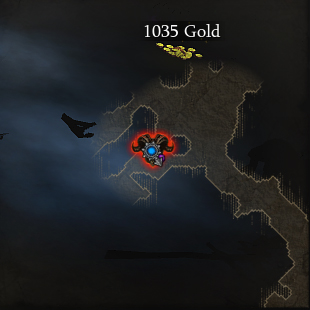Guardian: (129, 133, 174, 166)
